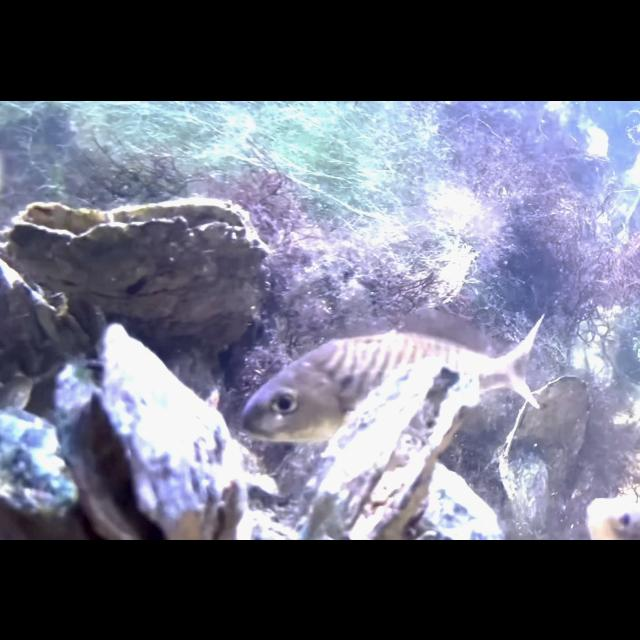Oyster-Closed: (502, 373, 594, 507), (0, 402, 80, 522)
Oyster-Open: (52, 319, 250, 539), (8, 192, 272, 346), (306, 356, 478, 538)
